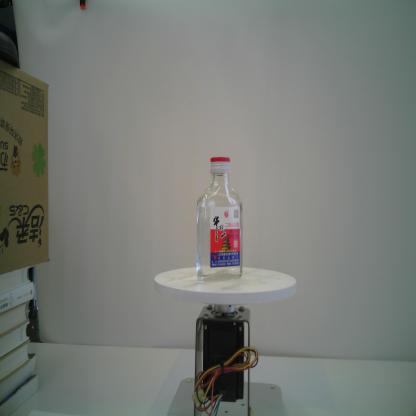Alcohol: (192, 154, 244, 282)
